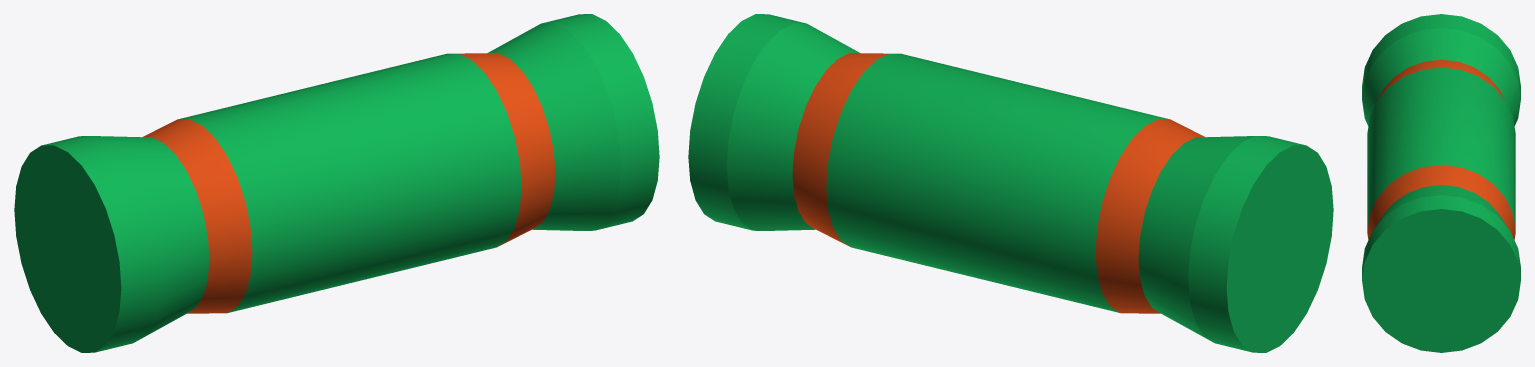
File: bedrollPacked.obj
The picture shows the model from 3 angles, left to right: view 1: azimuth 30°, elevation 25°; view 2: azimuth 150°, elevation 25°; view 3: azimuth 270°, elevation 25°; orthographic projection. The views are drawn at different scales.
Parts seen in each view (by area): view 1: bedrollPacked; view 2: bedrollPacked; view 3: bedrollPacked.
Boxes of the visible parts, x1,y1,x2,y2 form: bedrollPacked: [14, 14, 659, 352]; bedrollPacked: [688, 14, 1333, 352]; bedrollPacked: [1362, 14, 1520, 352].
Bounding box in the file's own units: 0.2604 × 0.0897 × 0.0897.
